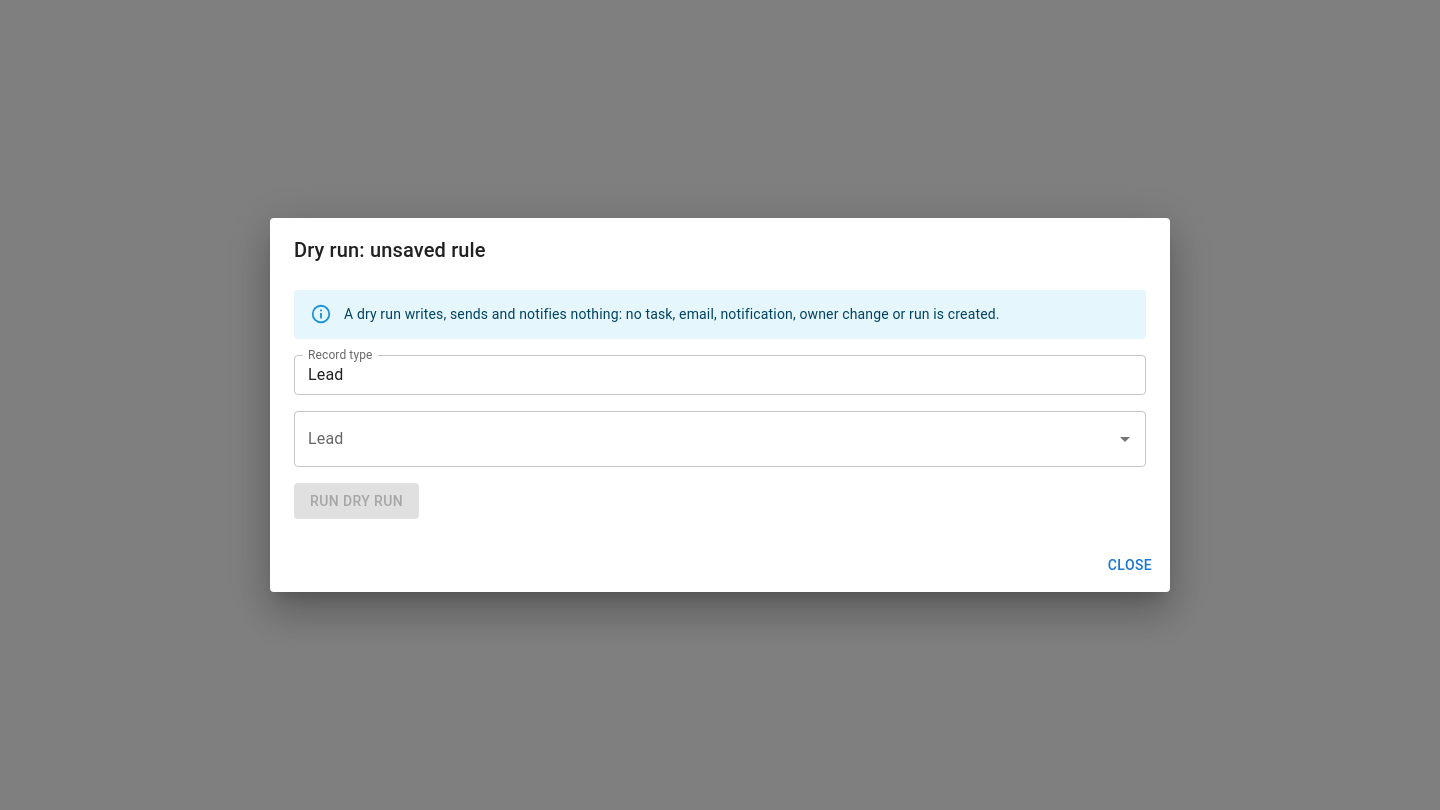
DryRunDialog › a rejected draft shows the server message and reports the field errors
Expected: the dialog "Dry run: unsaved rule" is shown, [270, 218, 1170, 592]
Press the mouse on the dropdown labelled "Lead" at (705, 438), box [303, 420, 1107, 458]
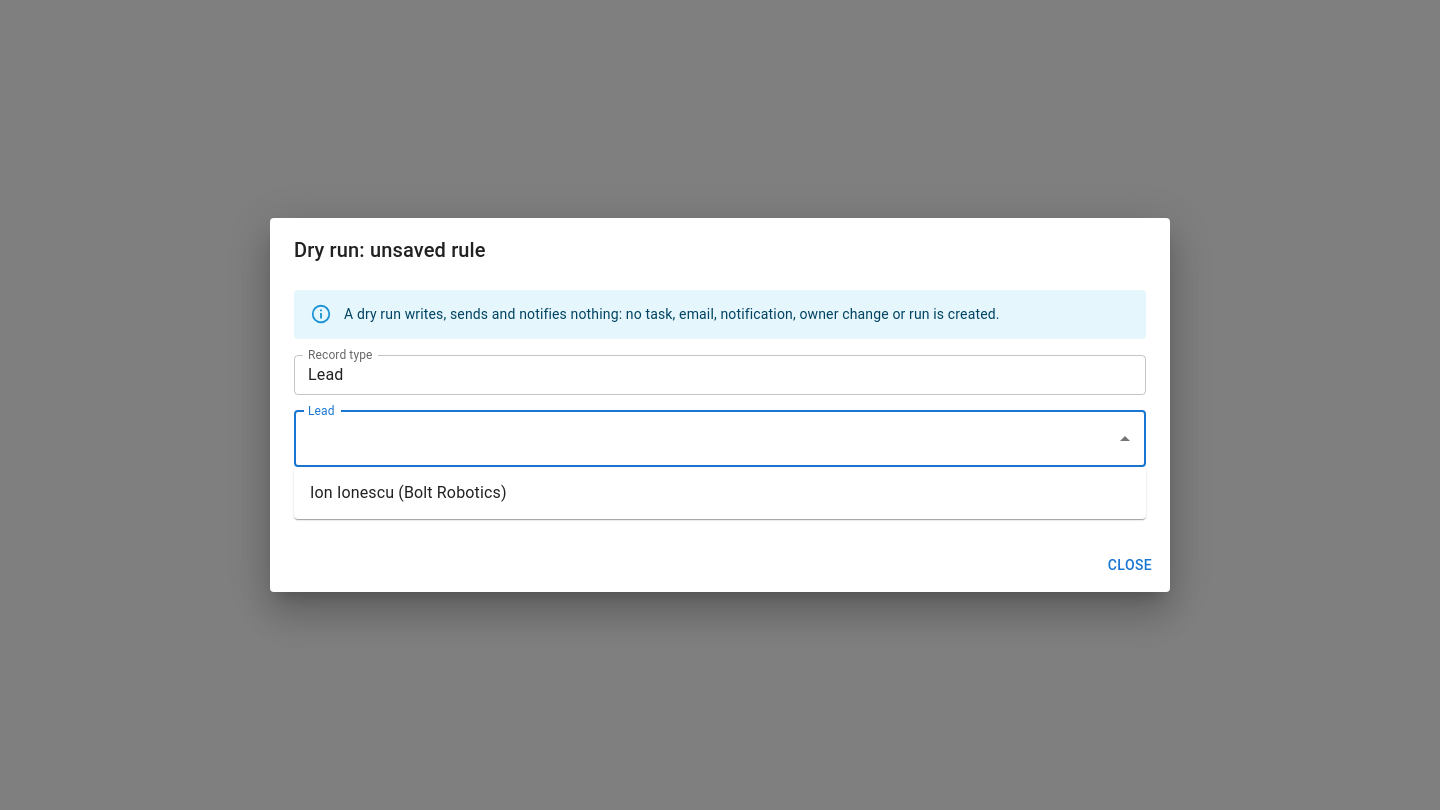
Click the option "Ion Ionescu (Bolt Robotics)".
click(408, 492)  # box [310, 483, 507, 502]
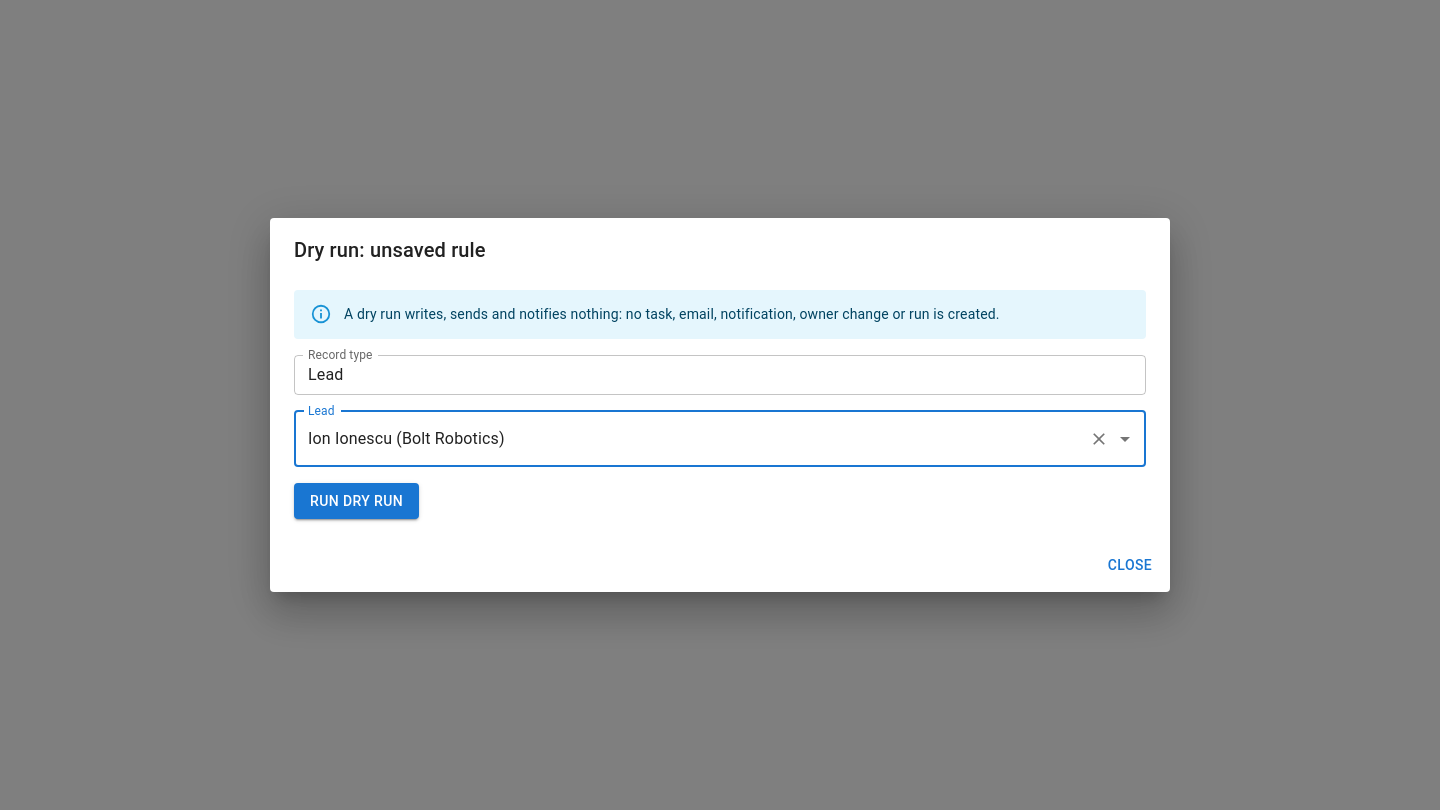
Expected: the dropdown labelled "Lead" holds "Ion Ionescu (Bolt Robotics)", [303, 420, 1081, 458]
Click the button "Run dry run".
click(357, 501)  # box [294, 482, 419, 519]
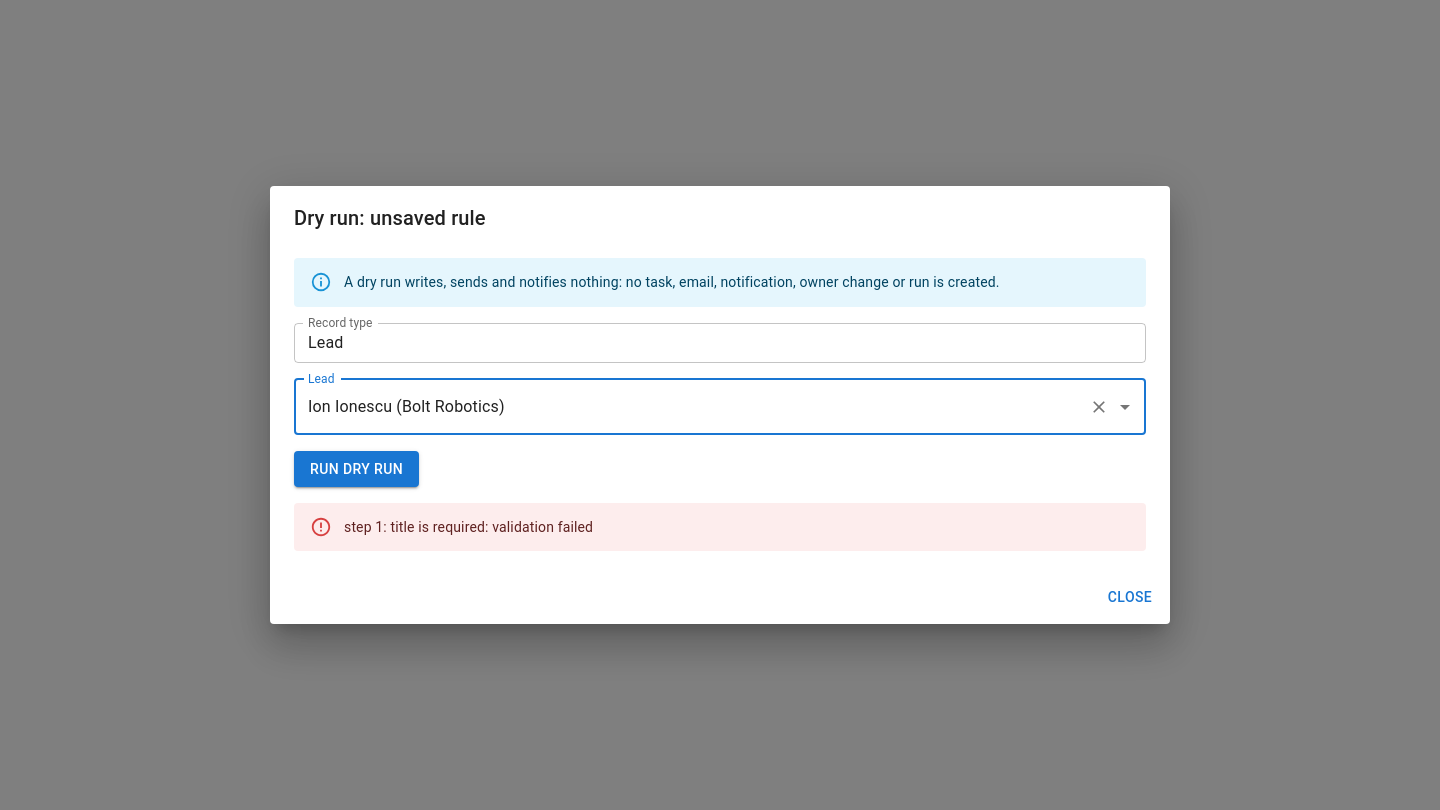
Expected: the message with test id "dry-run-error" reads "step 1: title is required: validation failed", [344, 519, 593, 535]
